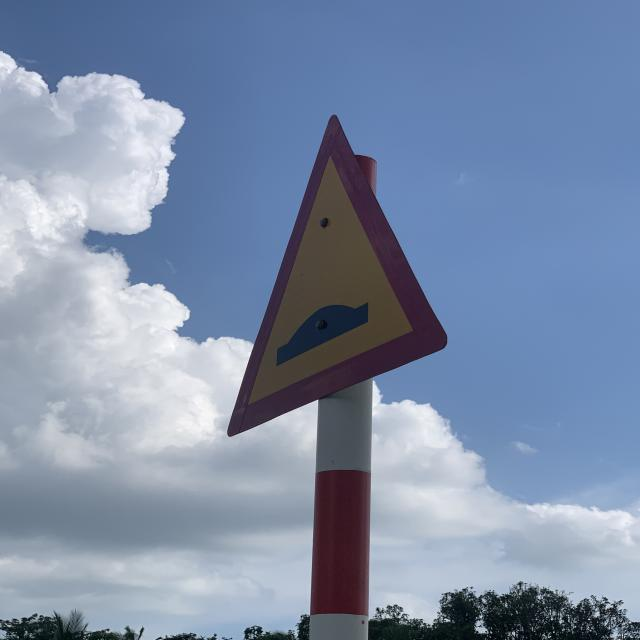Duong_Cong_Ben_Phai: (225, 113, 449, 439)
